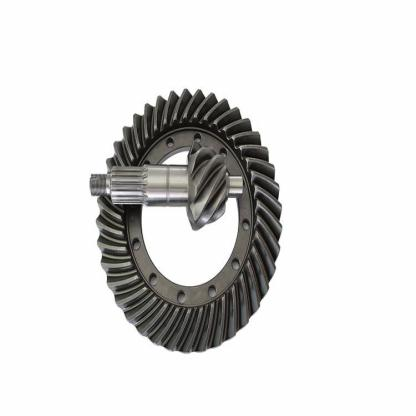FOD: (95, 87, 283, 359), (185, 137, 231, 233)
